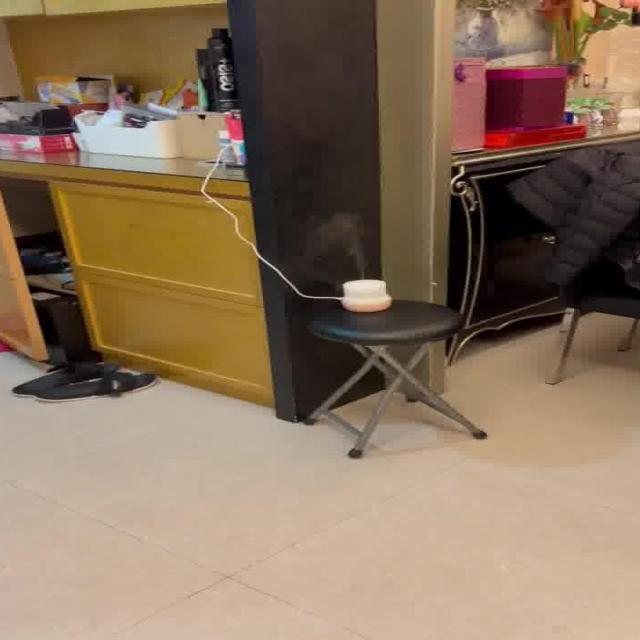fire: (306, 207, 380, 274)
